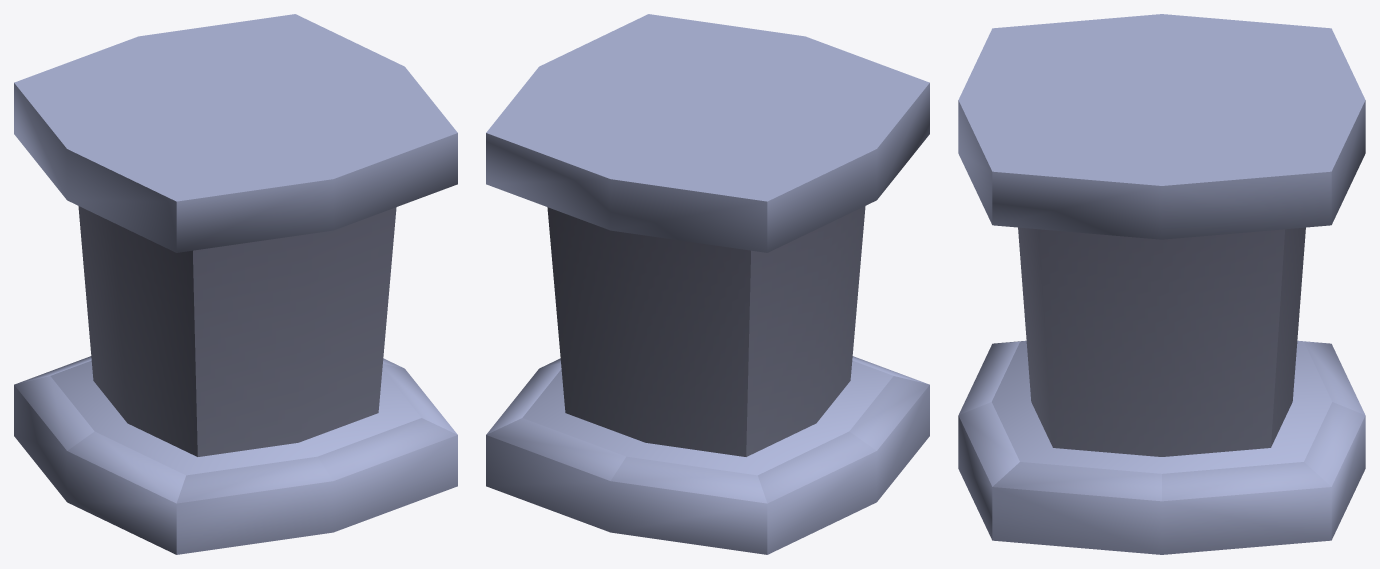
Rendered from column.glb.
3 renders of one model, left to right at view 1: azimuth 30°, elevation 25°; view 2: azimuth 150°, elevation 25°; view 3: azimuth 270°, elevation 25°, orthographic. The views are drawn at different scales.
Visible parts, largest first — view 1: column; view 2: column; view 3: column.
Part boxes in pixels (x1,y1,x2,y2): column: [14, 14, 457, 554]; column: [486, 14, 929, 554]; column: [958, 14, 1365, 554].
Size of the model in its own units: 1 by 1 by 1.
1 material, 1 textured.
